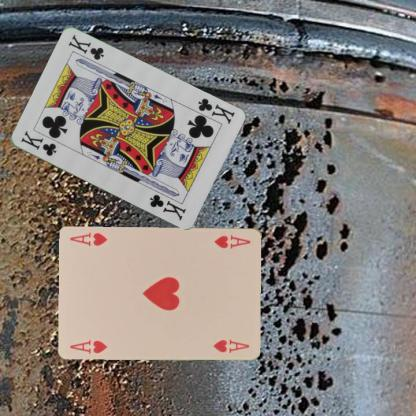Ah: (212, 232, 253, 250), (68, 337, 108, 355)
Kc: (195, 95, 236, 126), (18, 128, 57, 158)
